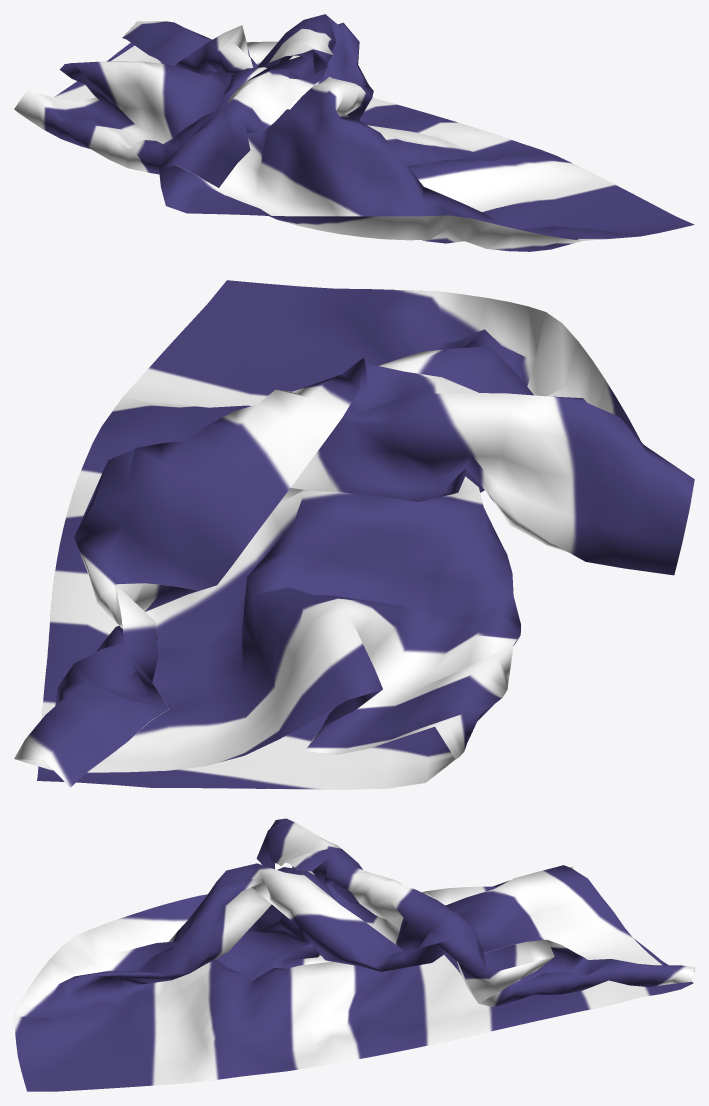
File: cloth1_everything_v1.fbx
The picture shows the model from 3 angles, top to bottom: view 1: azimuth 30°, elevation 25°; view 2: azimuth 150°, elevation 25°; view 3: azimuth 270°, elevation 25°; orthographic projection. The views are drawn at different scales.
Parts seen in each view (by area): view 1: Cloth1; view 2: Cloth1; view 3: Cloth1.
Part boxes in pixels (x1,y1,x2,y2): Cloth1: (14,14,694,251); Cloth1: (14,280,694,789); Cloth1: (14,818,694,1091).
Bounding box in the file's own units: 267 × 78.24 × 385.
